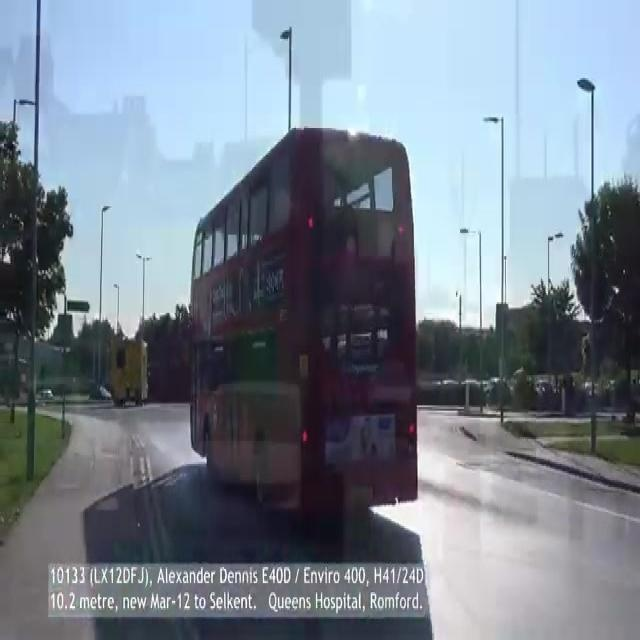Bus: (183, 127, 422, 520)
